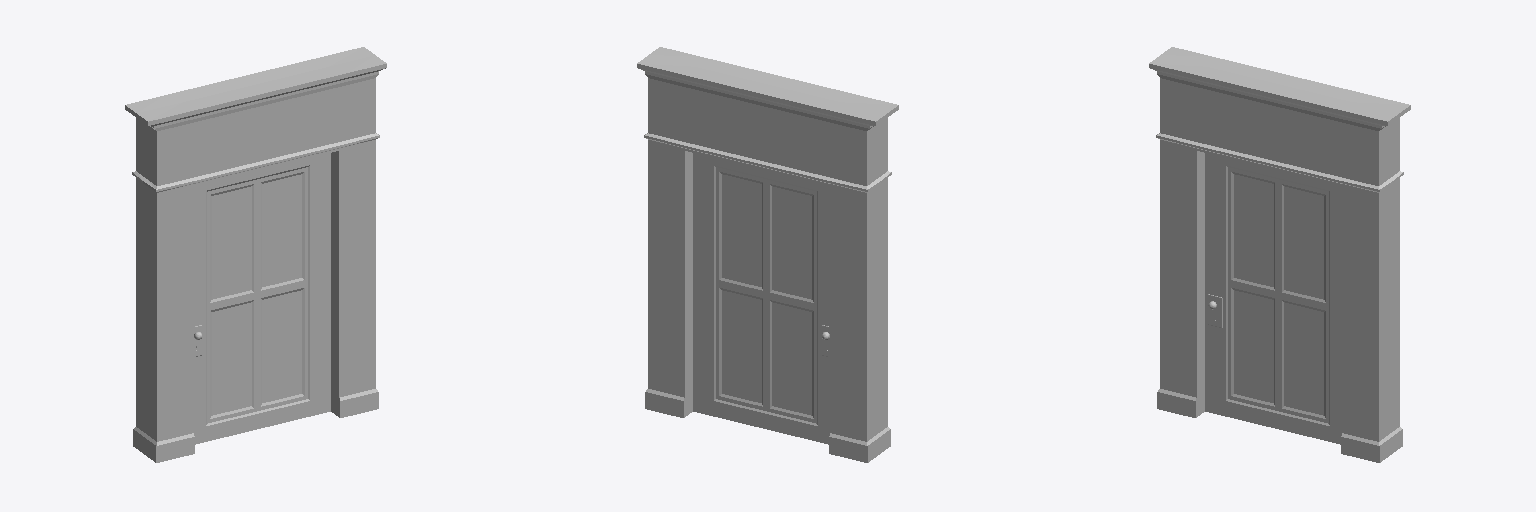
File: Anubis_DoorAndFrame.obj
The picture shows the model from 3 angles: view 1: azimuth 30°, elevation 25°; view 2: azimuth 150°, elevation 25°; view 3: azimuth 330°, elevation 25°; orthographic projection.
Visible parts, largest first — view 1: Door_Frame_Cube.006, Door_Cube; view 2: Door_Frame_Cube.006, Door_Cube; view 3: Door_Frame_Cube.006, Door_Cube.
Boxes of the visible parts, box(x1,y1,x2,y2) form: Door_Frame_Cube.006: box(125, 47, 386, 462); Door_Cube: box(194, 153, 330, 444); Door_Frame_Cube.006: box(637, 47, 898, 462); Door_Cube: box(693, 153, 829, 444); Door_Frame_Cube.006: box(1149, 47, 1410, 462); Door_Cube: box(1205, 153, 1341, 444).
Size of the model in its own units: 3.28 by 4.5 by 0.5909.